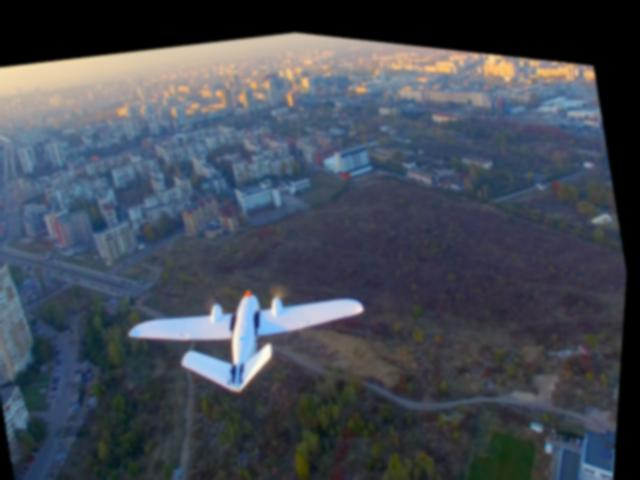plane: (122, 250, 384, 419)
